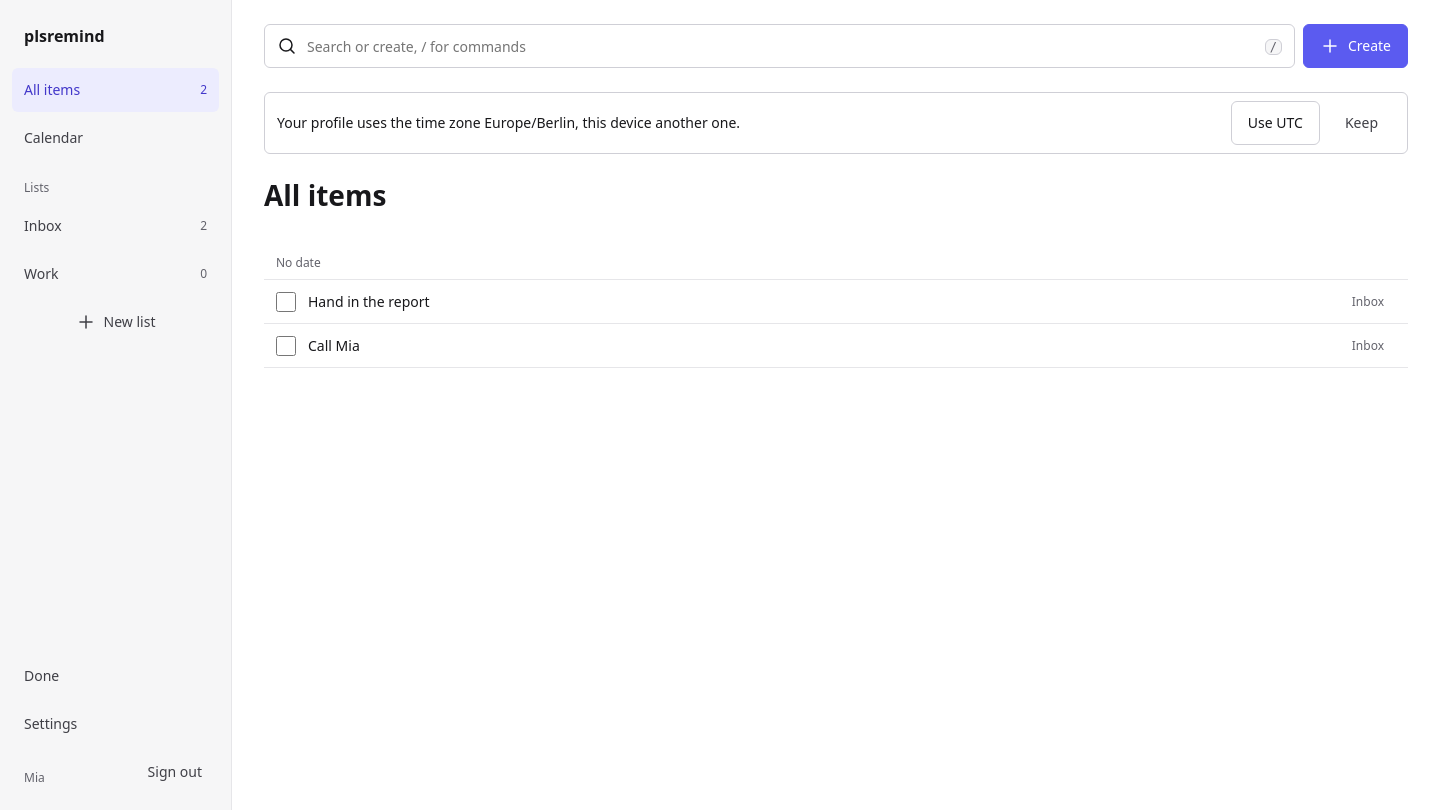
Test: a command that makes no sense is not run and says how it is meant
Click the link "Hand in the report".
click(369, 301)  # box [308, 292, 430, 310]
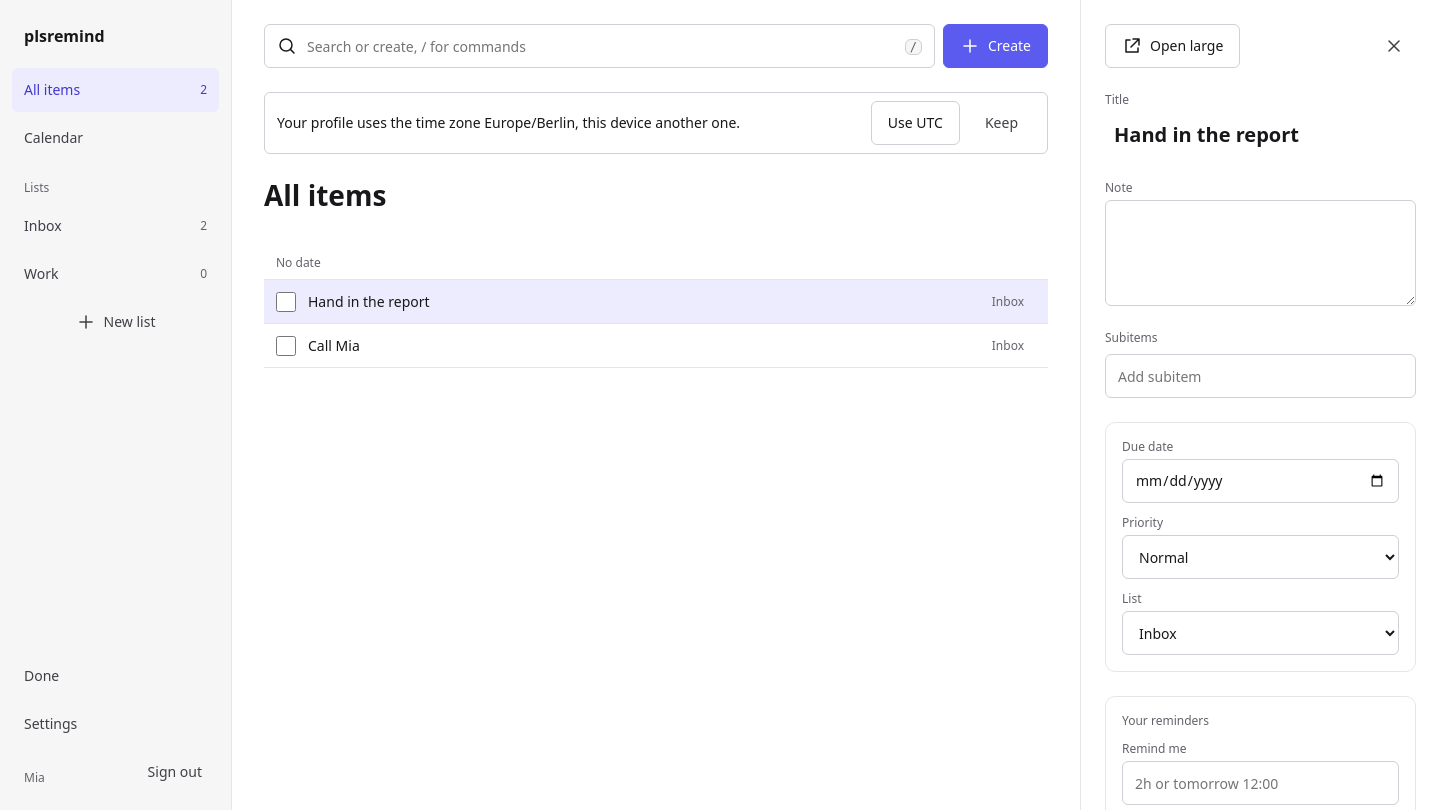
Type "/prio urgent" into the dropdown named "Search, create".
click(601, 46); type("/prio urgent")  # box [305, 25, 897, 67]
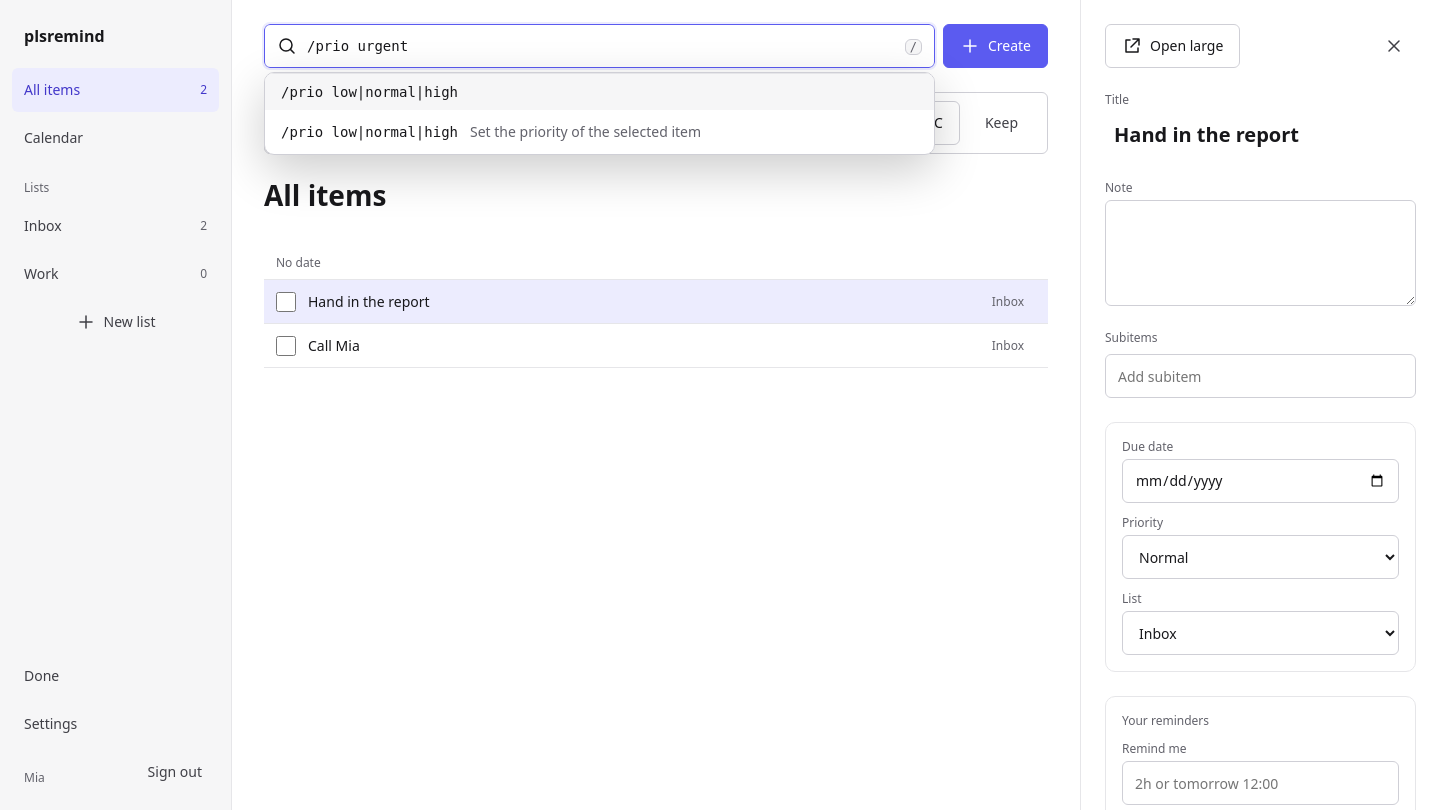
expect the 1st text "/prio low|normal|high" is shown: met, box [281, 82, 458, 102]
Press Enter
Replace the text in the dropdown named "Search, create" with "/nonsense" at (601, 46), box [305, 25, 897, 67]
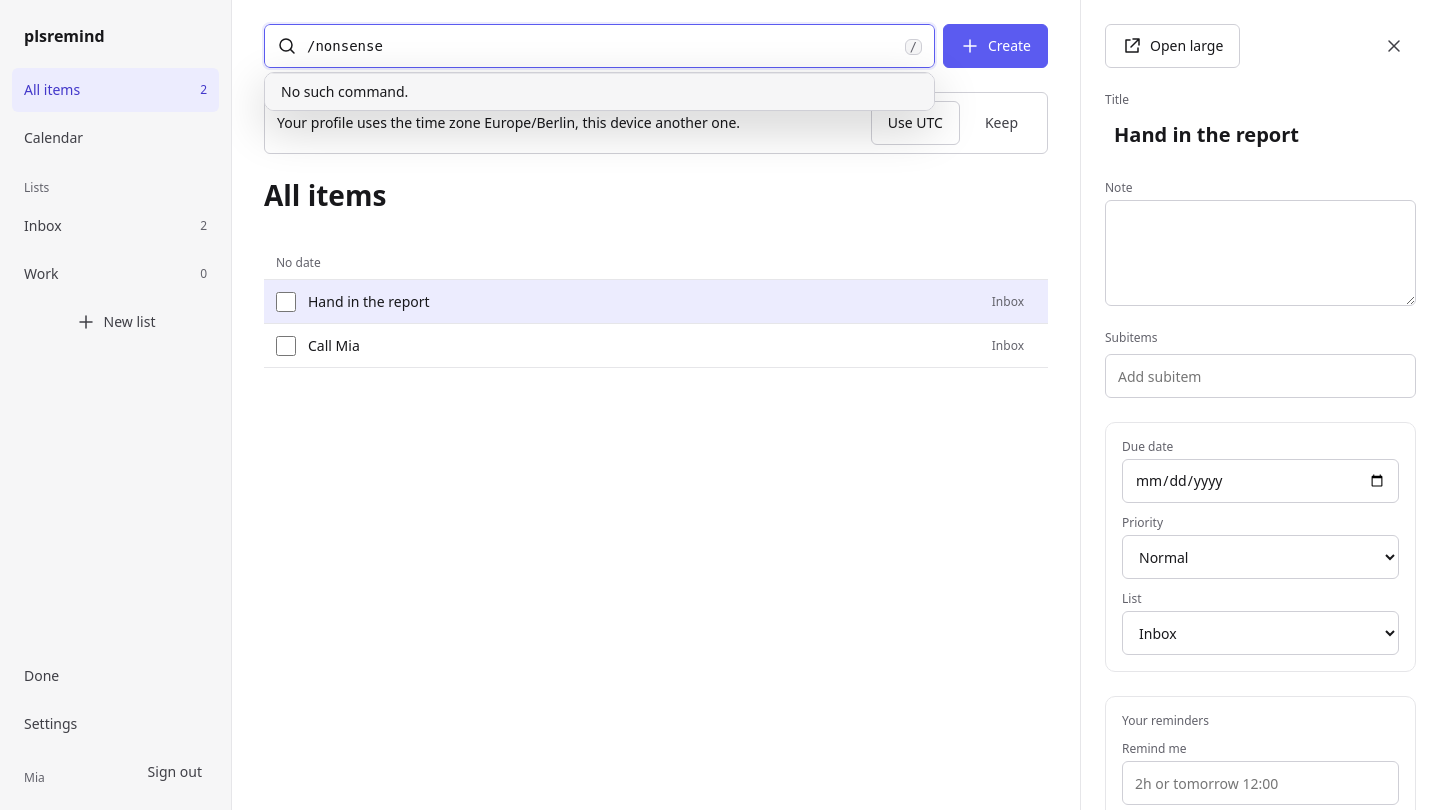
expect the text "No such command." is shown: met, box [281, 82, 408, 102]
